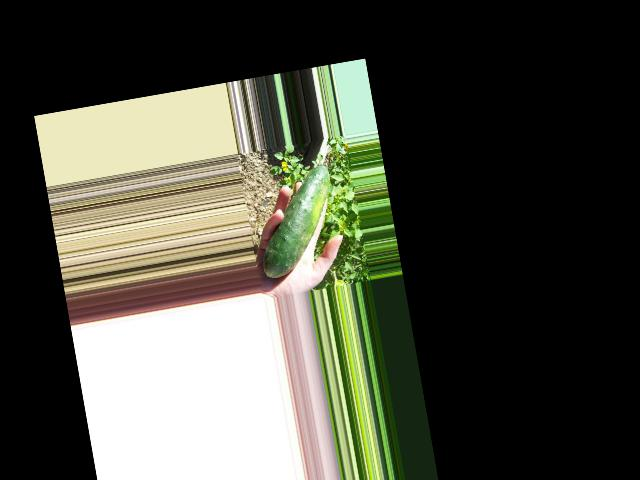cucumber: (248, 163, 344, 278)
